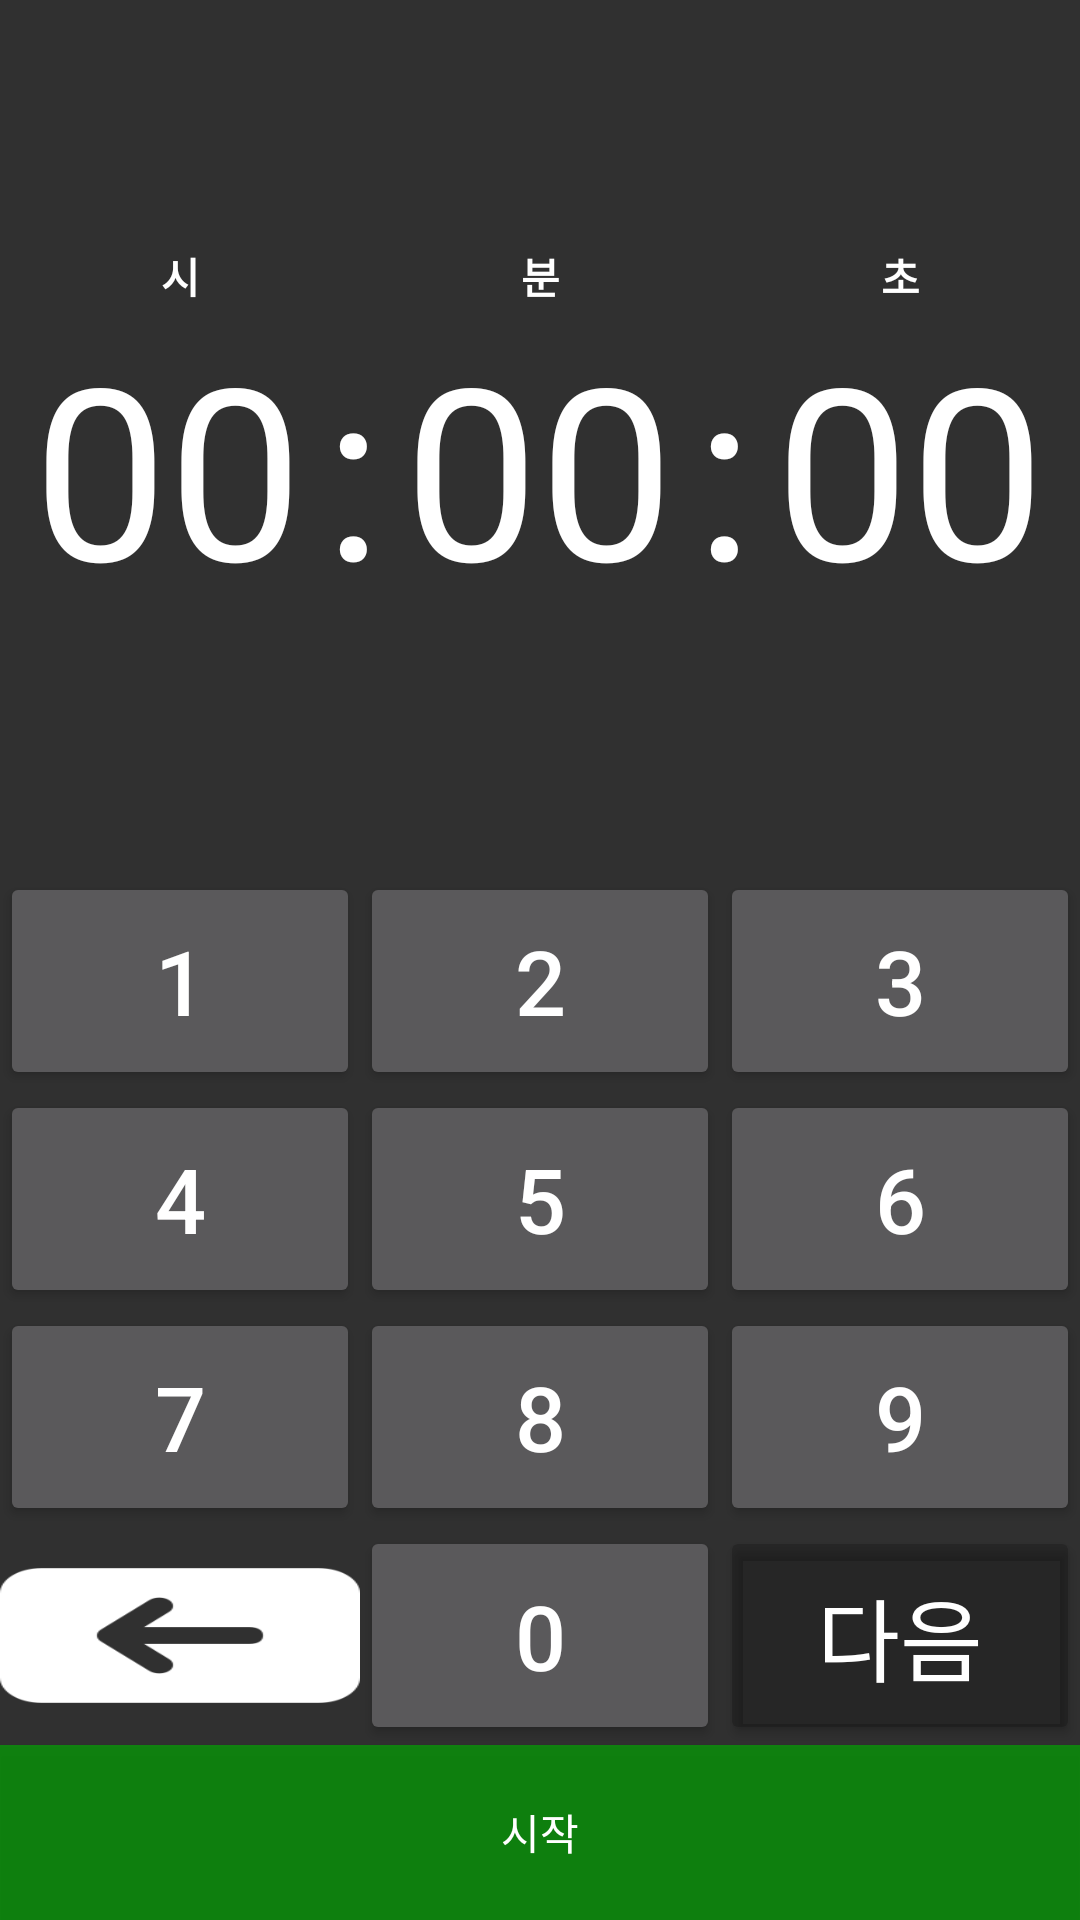

Point at icon controls on the screen. Image size 1080 × 1920, points as point (x, y).
backspace: point (180, 1635)
